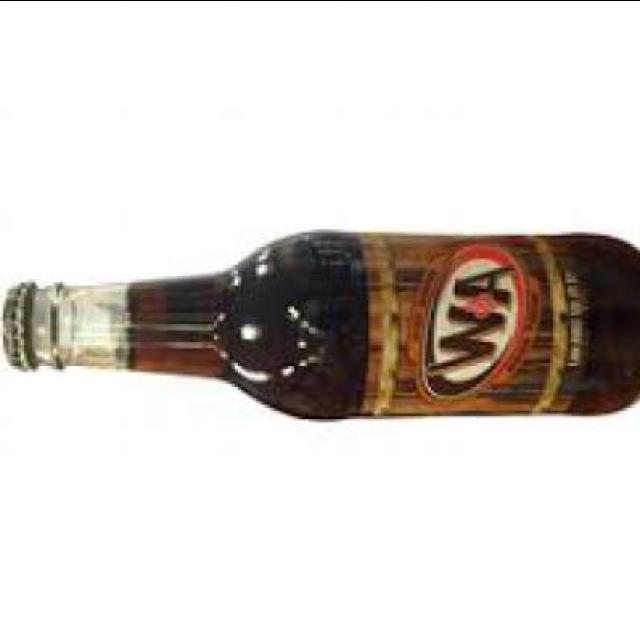kaca: (28, 228, 640, 415)
